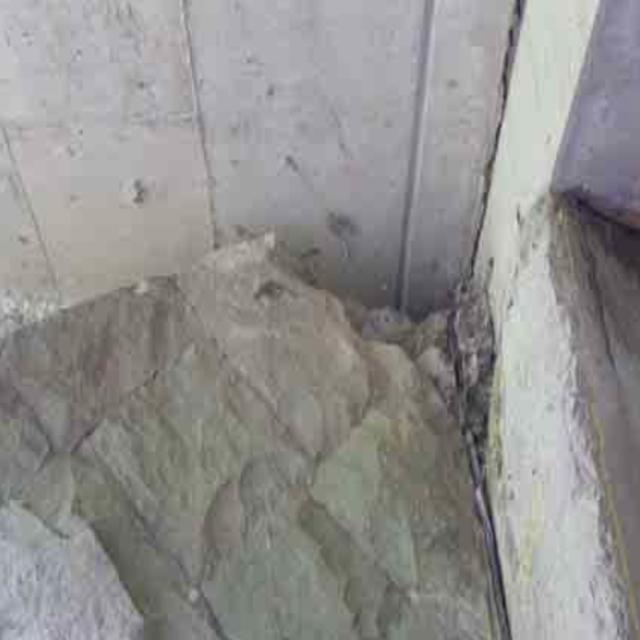spalling: (248, 215, 553, 434)
